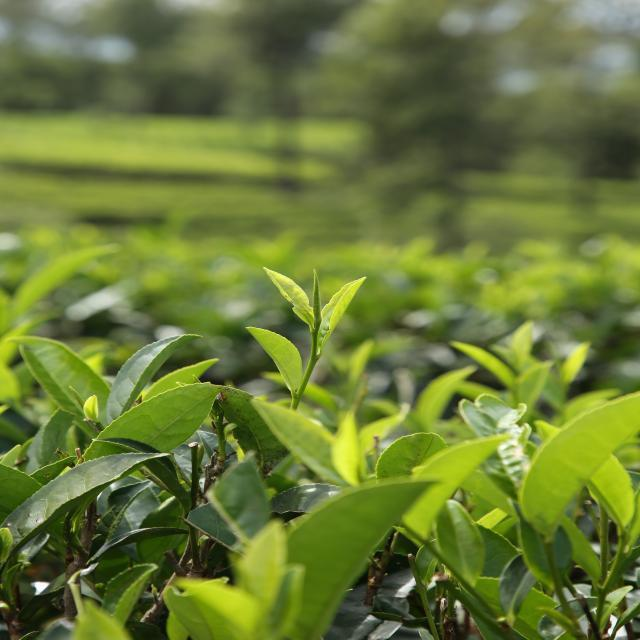Stem: (311, 330, 318, 339)
